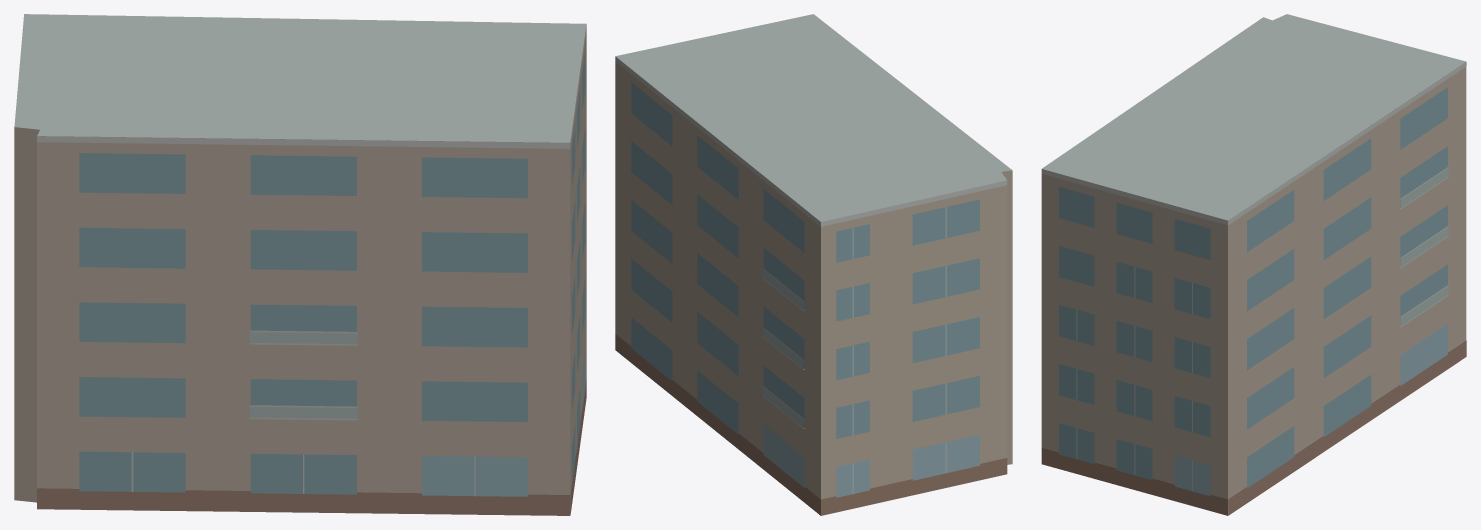
Rendered from survey-upis-32685465.glb.
3 views of the same model, side by side, from view 1: azimuth 30°, elevation 25°; view 2: azimuth 150°, elevation 25°; view 3: azimuth 270°, elevation 25° (orthographic). The views are drawn at different scales.
Visible parts, largest first — view 1: survey-upis-32685465.tmp; view 2: survey-upis-32685465.tmp; view 3: survey-upis-32685465.tmp.
Part boxes in pixels (x1,y1,x2,y2): survey-upis-32685465.tmp: [14, 14, 586, 515]; survey-upis-32685465.tmp: [615, 14, 1012, 515]; survey-upis-32685465.tmp: [1041, 14, 1466, 515].
Size of the model in its own units: 22.21 by 14.8 by 19.31.
